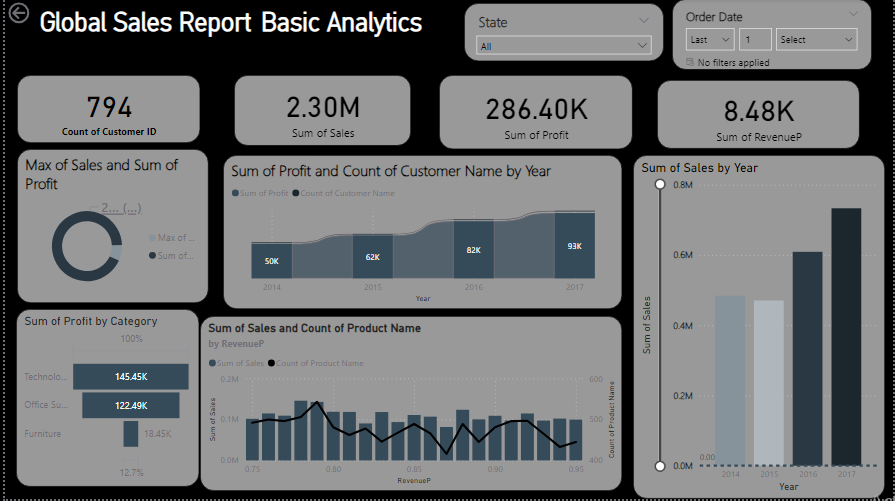

This screenshot's page, from the dashboard's own definition file:
{"tool":"powerbi","page":{"name":"Page 1","canvas":[1280,720],"ordinal":0},"visuals":[{"type":"clusteredColumnChart","fields":{"Category":["Orders.Order Date.Variation.Date Hierarchy.Year","Orders.Order Date.Variation.Date Hierarchy.Quarter","Orders.Order Date.Variation.Date Hierarchy.Month","Orders.Order Date.Variation.Date Hierarchy.Day"],"Y":["Sum(Orders.Sales)"]},"box":[904.3,224.6,362.9,495.4],"z":0},{"type":"textbox","box":[0,0,701.3,90.7],"z":1000},{"type":"actionButton","box":[0,0,100,40],"z":2000},{"type":"ribbonChart","fields":{"Category":["Orders.Order Date.Variation.Date Hierarchy.Year","Orders.Order Date.Variation.Date Hierarchy.Quarter","Orders.Order Date.Variation.Date Hierarchy.Month","Orders.Order Date.Variation.Date Hierarchy.Day"],"Y":["Sum(Orders.Profit)","CountNonNull(Orders.Customer Name)"]},"box":[313.9,224.6,574.6,221.8],"z":3000},{"type":"card","fields":{"Values":["Count(Orders.Customer ID)"]},"box":[17.3,109.4,263.5,97.9],"z":4000},{"type":"funnel","fields":{"Category":["Orders.Category"],"Y":["Sum(Orders.Profit)"]},"box":[15.8,446.4,263.5,256.3],"z":5000},{"type":"donutChart","fields":{"Y":["Orders.Max of Sales ","Sum(Orders.Profit)"]},"box":[17.3,216,276.5,221.8],"z":6000},{"type":"card","fields":{"Values":["Sum(Orders.RevenueP)"]},"box":[938.9,116.6,292.3,99.4],"z":7000},{"type":"card","fields":{"Values":["Sum(Orders.Profit)"]},"box":[625,109.4,279.4,106.6],"z":8000},{"type":"card","fields":{"Values":["Sum(Orders.Sales)"]},"box":[329.8,109.4,254.9,102.2],"z":9000},{"type":"lineClusteredColumnComboChart","fields":{"Category":["Orders.RevenueP"],"Y":["Sum(Orders.Sales)"],"Y2":["CountNonNull(Orders.Product Name)"]},"box":[280.8,456.5,607.7,252],"z":10000},{"type":"slicer","fields":{"Values":["Orders.State"]},"box":[661,5.8,288,83.5],"z":11000},{"type":"slicer","fields":{"Values":["Orders.Order Date"]},"box":[960.5,0,288,102.2],"z":12000}]}

Visuals, with their boxes in screenshot pixels (x1, y1, x2, y2), scaled from the page's 1280x720 canvas onto the 895x501 screenshot:
clusteredColumnChart - Orders.Order Date.Variation.Date Hierarchy.Year x Orders.Order Date.Variation.Date Hierarchy.Quarter: {"left": 632, "top": 156, "right": 886, "bottom": 500}
textbox: {"left": 0, "top": 0, "right": 490, "bottom": 63}
actionButton: {"left": 0, "top": 0, "right": 70, "bottom": 28}
ribbonChart - Orders.Order Date.Variation.Date Hierarchy.Year x Orders.Order Date.Variation.Date Hierarchy.Quarter: {"left": 219, "top": 156, "right": 621, "bottom": 311}
card - Count(Orders.Customer ID): {"left": 12, "top": 76, "right": 196, "bottom": 144}
funnel - Orders.Category x Sum(Orders.Profit): {"left": 11, "top": 311, "right": 195, "bottom": 489}
donutChart - Orders.Max of Sales  x Sum(Orders.Profit): {"left": 12, "top": 150, "right": 205, "bottom": 305}
card - Sum(Orders.RevenueP): {"left": 656, "top": 81, "right": 861, "bottom": 150}
card - Sum(Orders.Profit): {"left": 437, "top": 76, "right": 632, "bottom": 150}
card - Sum(Orders.Sales): {"left": 231, "top": 76, "right": 409, "bottom": 147}
lineClusteredColumnComboChart - Orders.RevenueP x Sum(Orders.Sales): {"left": 196, "top": 318, "right": 621, "bottom": 493}
slicer - Orders.State: {"left": 462, "top": 4, "right": 664, "bottom": 62}
slicer - Orders.Order Date: {"left": 672, "top": 0, "right": 873, "bottom": 71}
